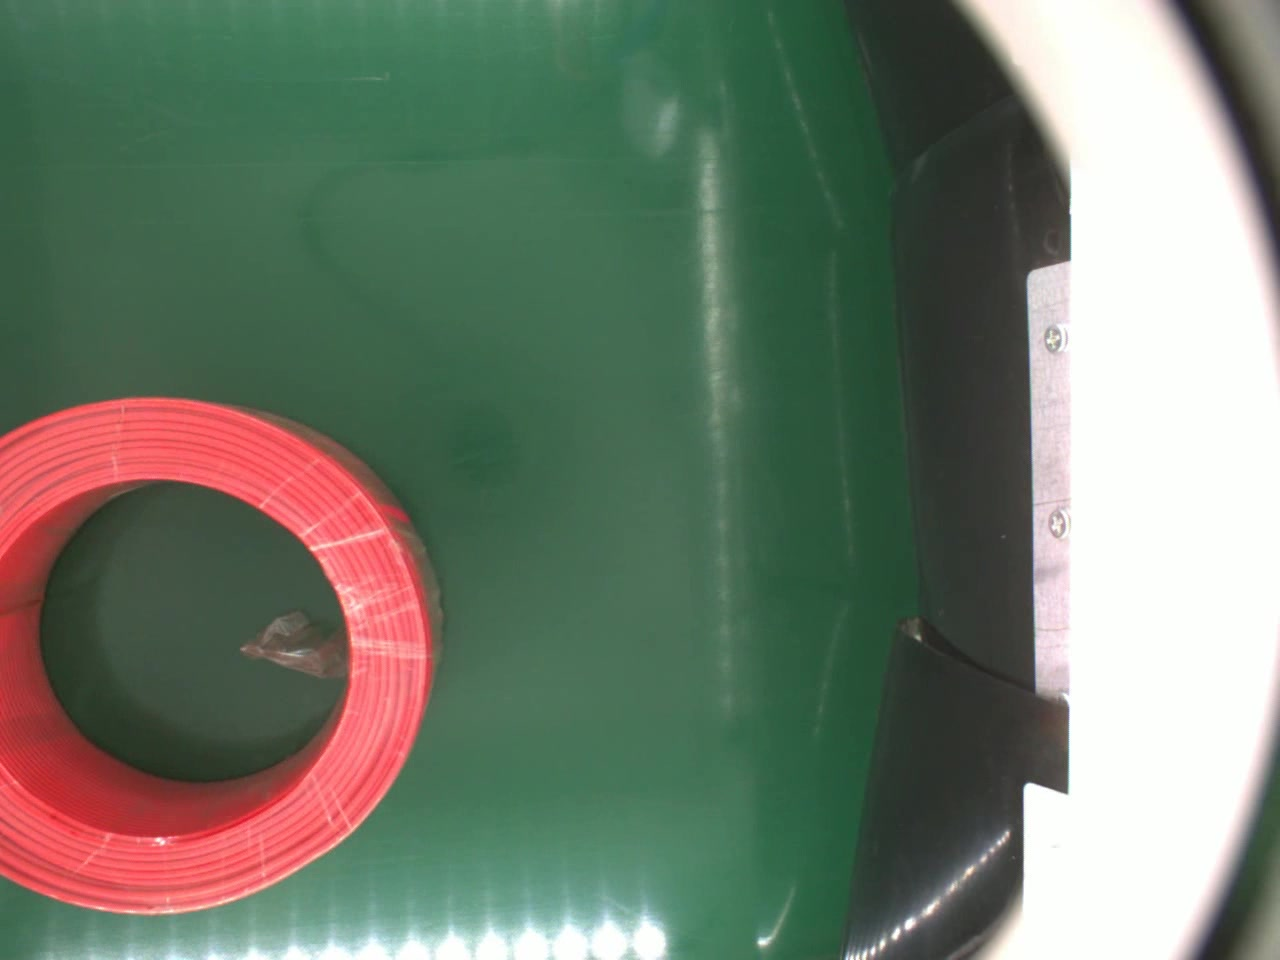red: (0, 398, 431, 909)
